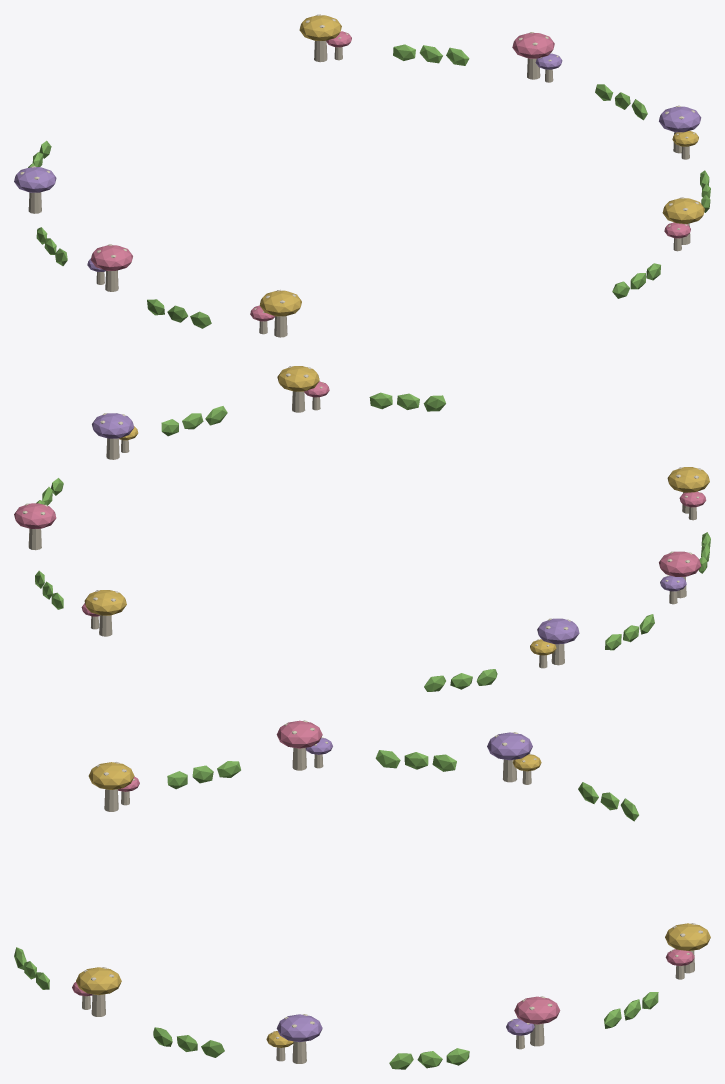
File: goo_jar_props@mushroom.fbx
3 views of the same model, one above another, from view 1: azimuth 30°, elevation 25°; view 2: azimuth 150°, elevation 25°; view 3: azimuth 270°, elevation 25° (orthographic). The views are drawn at different scales.
Visible parts, largest first — view 1: goo_jar_props; view 2: goo_jar_props; view 3: goo_jar_props.
Part boxes in pixels (x1=…): goo_jar_props: x1=14, y1=14, x2=710, y2=337; goo_jar_props: x1=14, y1=366, x2=710, y2=691; goo_jar_props: x1=14, y1=720, x2=710, y2=1069.
Size of the model in its own units: 69.2 by 5.03 by 65.32.
